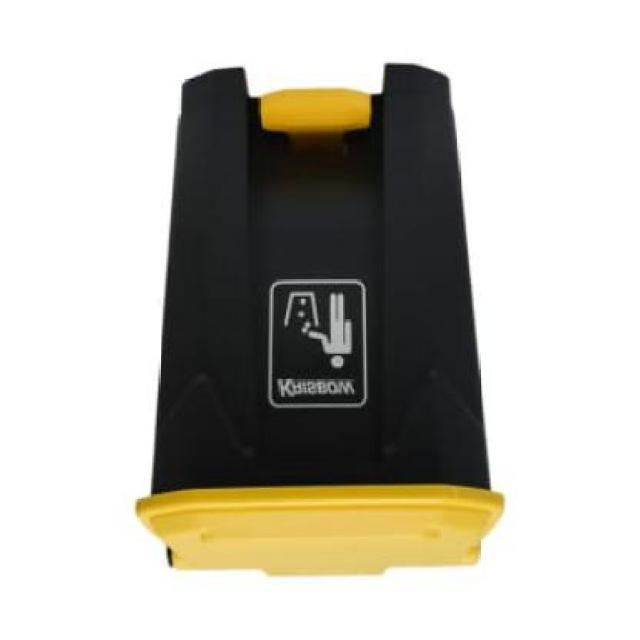garbage container: (133, 52, 522, 594)
